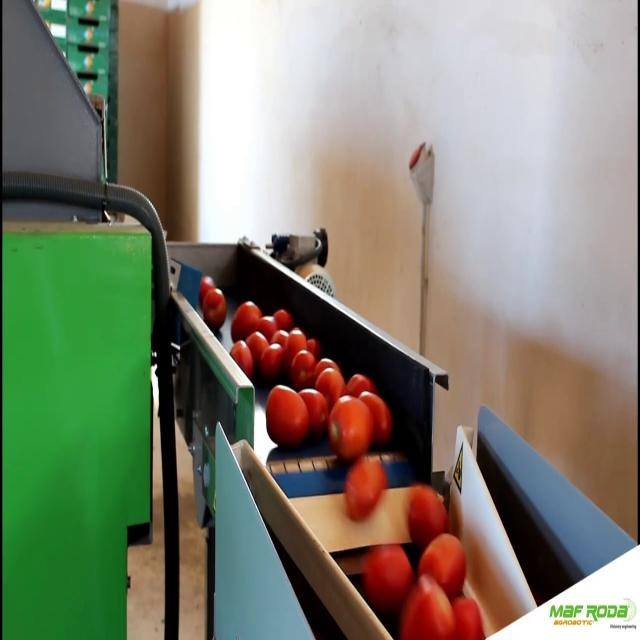Tomato: (360, 546, 413, 601), (263, 386, 309, 445), (327, 396, 372, 456), (404, 584, 452, 639), (407, 476, 445, 543), (347, 456, 384, 524), (424, 534, 462, 588), (451, 597, 483, 640), (360, 391, 390, 432), (229, 302, 259, 340), (257, 346, 284, 380), (313, 372, 344, 400), (227, 341, 252, 375), (205, 290, 228, 324), (290, 351, 313, 379), (286, 323, 308, 352), (348, 372, 373, 396), (274, 311, 291, 333), (198, 274, 214, 297), (261, 317, 275, 336)
